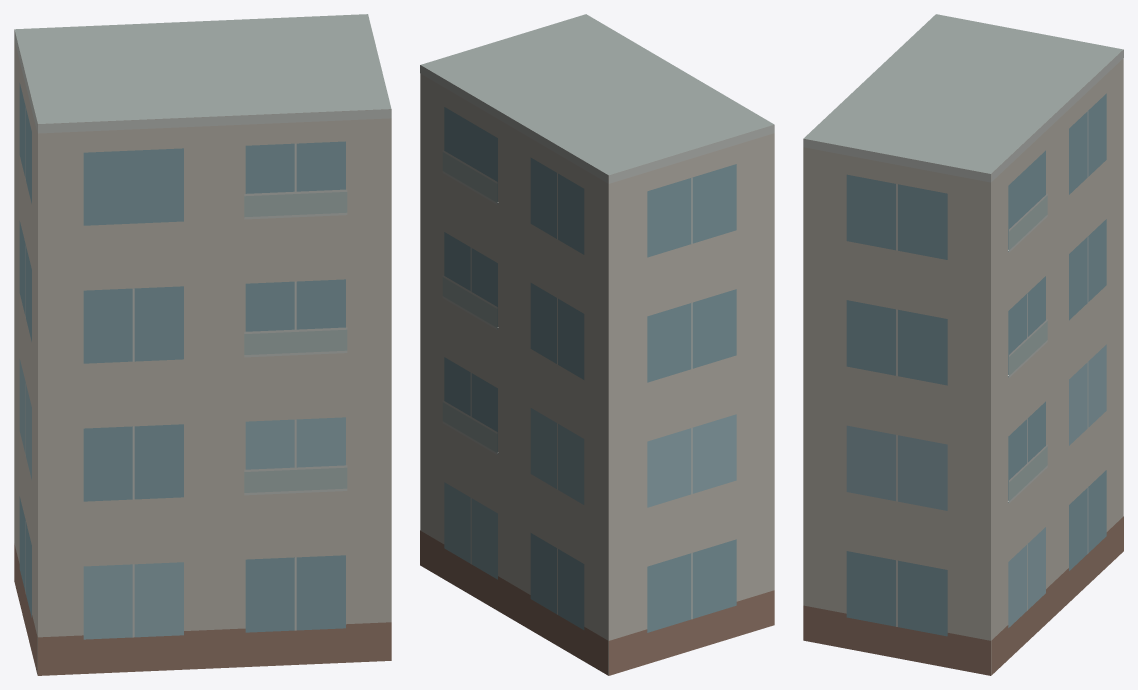
File: survey-upis-32505688.glb
3 views of the same model, side by side, from view 1: azimuth 30°, elevation 25°; view 2: azimuth 150°, elevation 25°; view 3: azimuth 270°, elevation 25° (orthographic). The views are drawn at different scales.
Visible parts, largest first — view 1: survey-upis-32505688.tmp; view 2: survey-upis-32505688.tmp; view 3: survey-upis-32505688.tmp.
Boxes of the visible parts, left/top/right/bottom form: survey-upis-32505688.tmp: left=14, top=14, right=391, bottom=675; survey-upis-32505688.tmp: left=420, top=14, right=774, bottom=675; survey-upis-32505688.tmp: left=803, top=14, right=1123, bottom=675.
Bounding box in the file's own units: 9.79 × 14.3 × 8.28.
